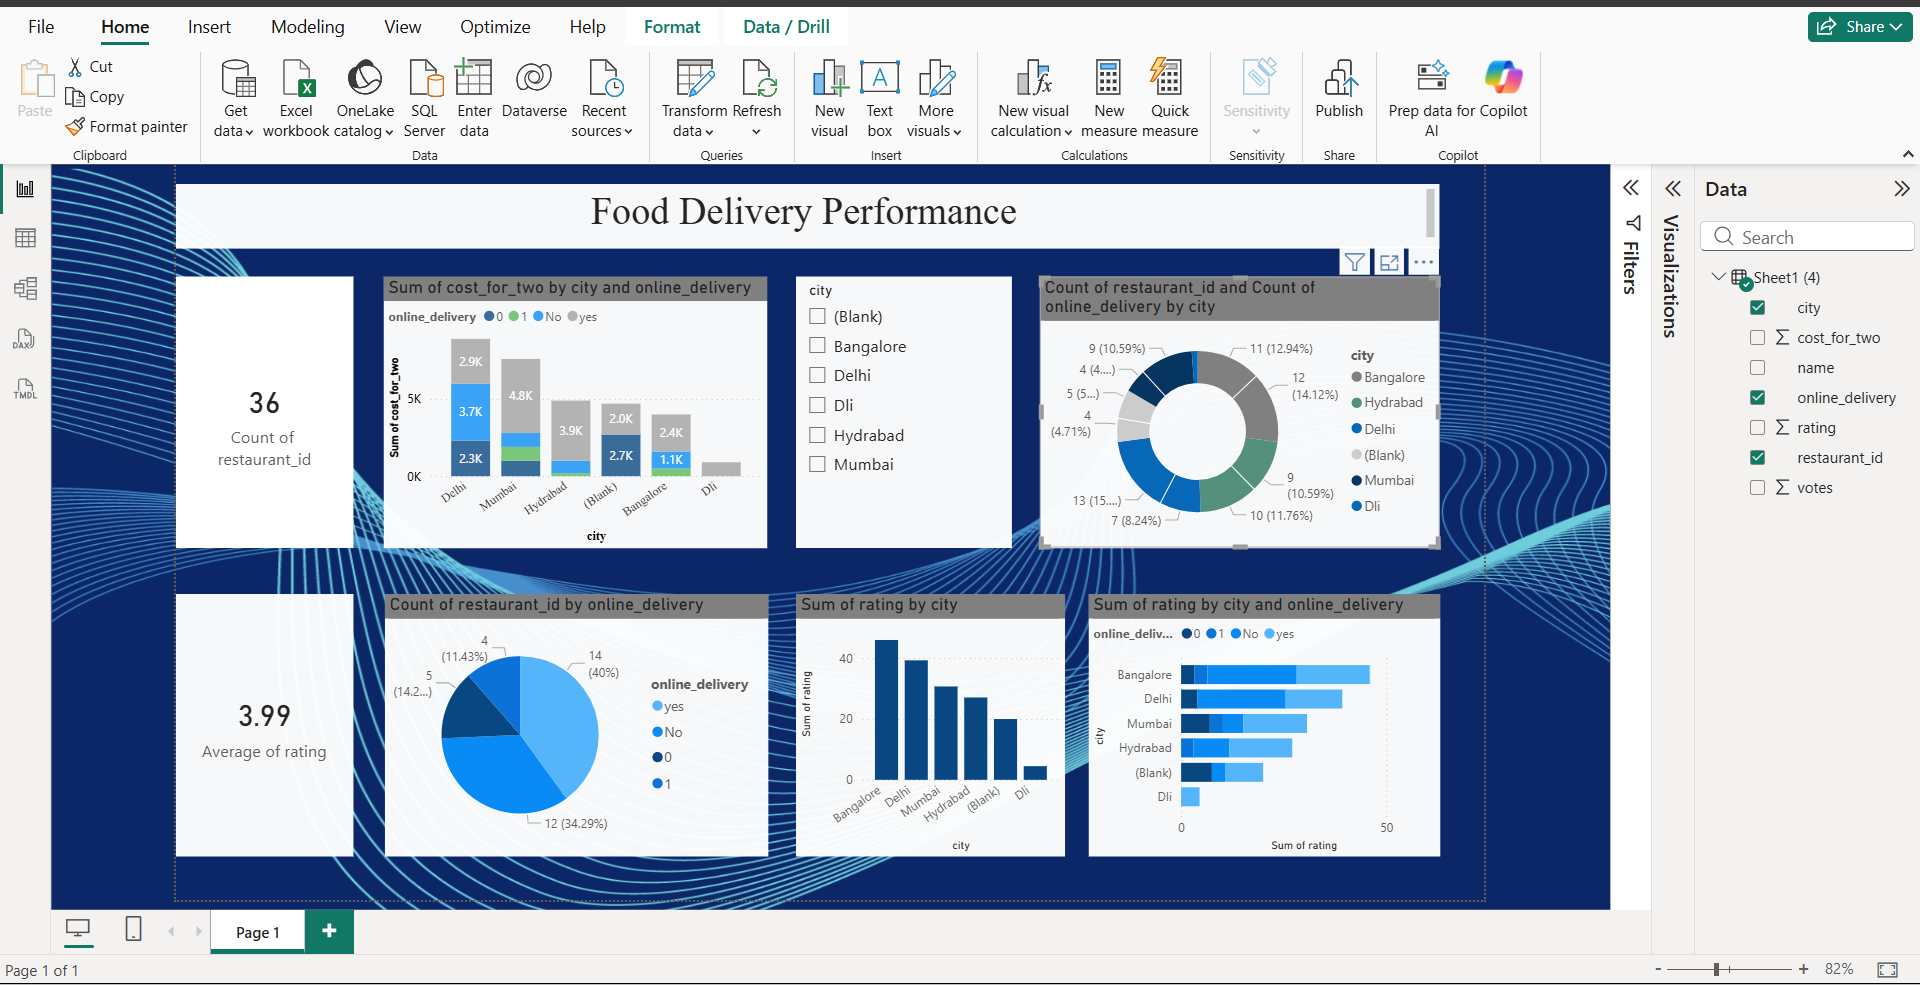

What the dashboard file says about the page in this screenshot:
{"tool":"powerbi","page":{"name":"Page 1","canvas":[1280,720],"ordinal":0},"visuals":[{"type":"card","fields":{"Values":["Count(Sheet1 (4).restaurant_id)"]},"box":[0,110.1,173.6,265.4],"z":0},{"type":"card","fields":{"Values":["Avg(Sheet1 (4).rating)"]},"box":[0,420.7,173.6,256.8],"z":1000},{"type":"columnChart","fields":{"Category":["Sheet1 (4).city"],"Y":["Sum(Sheet1 (4).cost_for_two)"],"Series":["Sheet1 (4).online_delivery"]},"box":[203,110.1,375.4,265.4],"z":2000},{"type":"slicer","fields":{"Values":["Sheet1 (4).city"]},"box":[606.5,110.1,211.6,265.4],"z":3000},{"type":"donutChart","fields":{"Category":["Sheet1 (4).city"],"Y":["CountNonNull(Sheet1 (4).restaurant_id)","CountNonNull(Sheet1 (4).online_delivery)"]},"box":[845,110.1,391.3,265.4],"z":4000},{"type":"pieChart","fields":{"Category":["Sheet1 (4).online_delivery"],"Y":["CountNonNull(Sheet1 (4).restaurant_id)"]},"box":[204.2,420.7,375.4,256.8],"z":5000},{"type":"textbox","box":[0,19.6,1115.2,63.6],"z":5001},{"type":"clusteredColumnChart","fields":{"Y":["Sum(Sheet1 (4).rating)"],"Category":["Sheet1 (4).city"]},"box":[606.5,420.7,262.9,256.8],"z":5002},{"type":"barChart","fields":{"Series":["Sheet1 (4).online_delivery"],"Category":["Sheet1 (4).city"],"Y":["Sum(Sheet1 (4).rating)"]},"box":[892.7,420.7,343.6,256.8],"z":5003}]}

Visuals, with their boxes on the page's 1280x720 design canvas (x1, y1, x2, y2). These are canvas units, not pixel positions in the 1920x985 screenshot, which may show the page scaled, cropped or inside an application window:
card - Count(Sheet1 (4).restaurant_id): x1=0 y1=110 x2=174 y2=376
card - Avg(Sheet1 (4).rating): x1=0 y1=421 x2=174 y2=678
columnChart - Sheet1 (4).city x Sum(Sheet1 (4).cost_for_two): x1=203 y1=110 x2=578 y2=376
slicer - Sheet1 (4).city: x1=606 y1=110 x2=818 y2=376
donutChart - Sheet1 (4).city x CountNonNull(Sheet1 (4).restaurant_id): x1=845 y1=110 x2=1236 y2=376
pieChart - Sheet1 (4).online_delivery x CountNonNull(Sheet1 (4).restaurant_id): x1=204 y1=421 x2=580 y2=678
textbox: x1=0 y1=20 x2=1115 y2=83
clusteredColumnChart - Sum(Sheet1 (4).rating) x Sheet1 (4).city: x1=606 y1=421 x2=869 y2=678
barChart - Sheet1 (4).online_delivery x Sheet1 (4).city: x1=893 y1=421 x2=1236 y2=678
